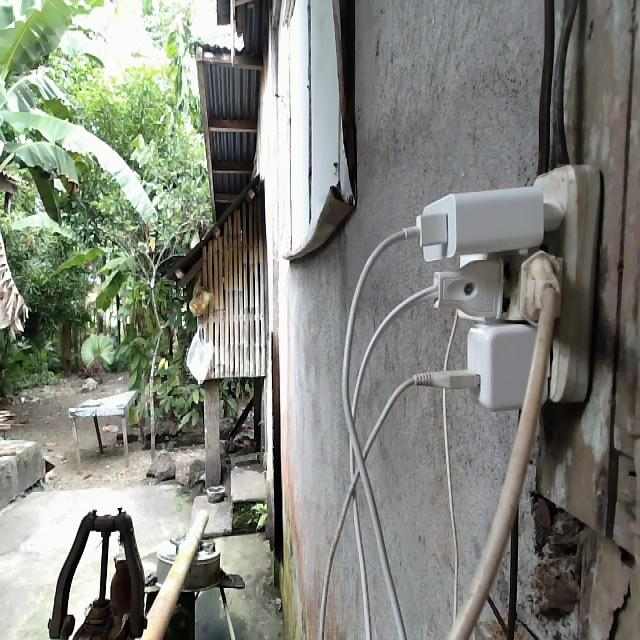-: (407, 159, 600, 409)
